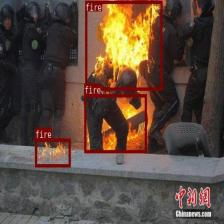fire: (85, 0, 162, 90), (84, 94, 146, 152), (35, 138, 70, 167)
